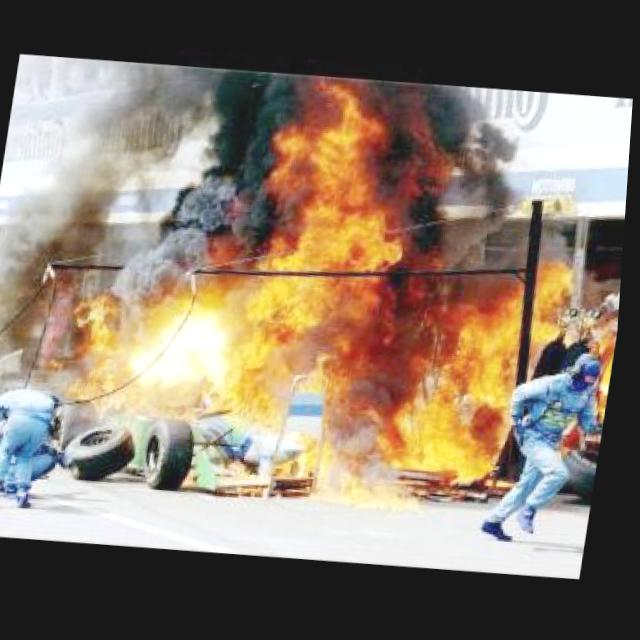Fire: (51, 69, 432, 447), (363, 78, 557, 404), (375, 236, 596, 513), (0, 83, 147, 364)
